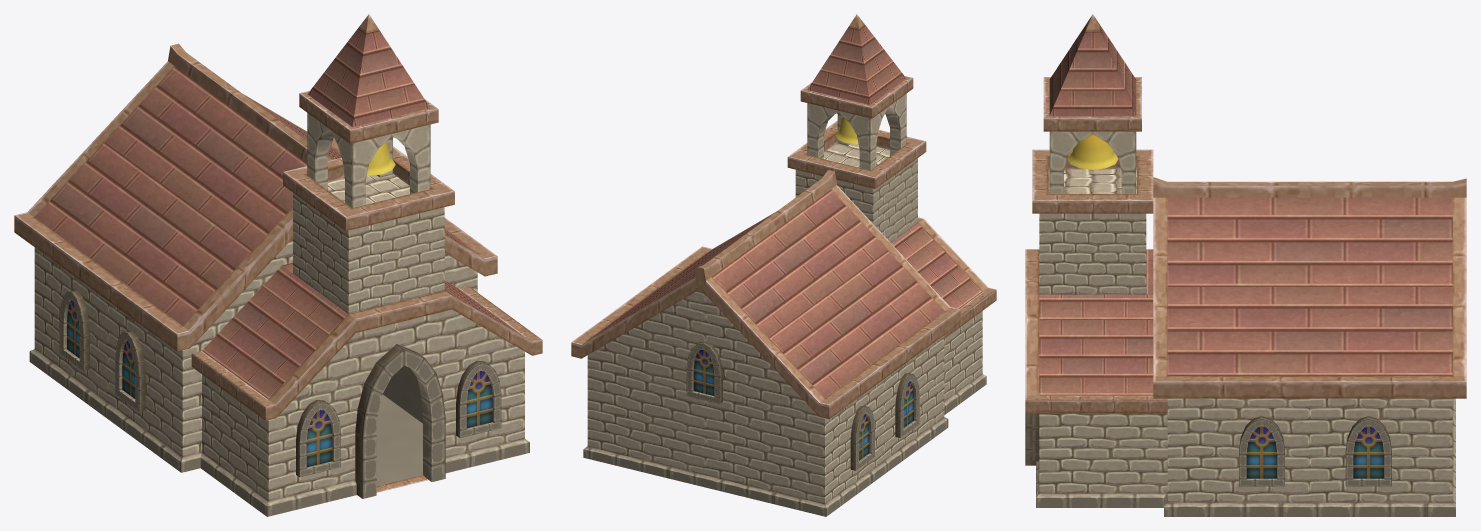
The model's file is Church.fbx.
The picture shows the model from 3 angles, left to right: view 1: azimuth 30°, elevation 25°; view 2: azimuth 150°, elevation 25°; view 3: azimuth 270°, elevation 25°; orthographic projection. The views are drawn at different scales.
Visible parts, largest first — view 1: Church; view 2: Church; view 3: Church.
Part boxes in pixels (x1,y1,x2,y2): Church: [14, 14, 542, 516]; Church: [571, 14, 996, 516]; Church: [1025, 14, 1466, 516].
Bounding box in the file's own units: 5 × 6.7 × 6.2.
